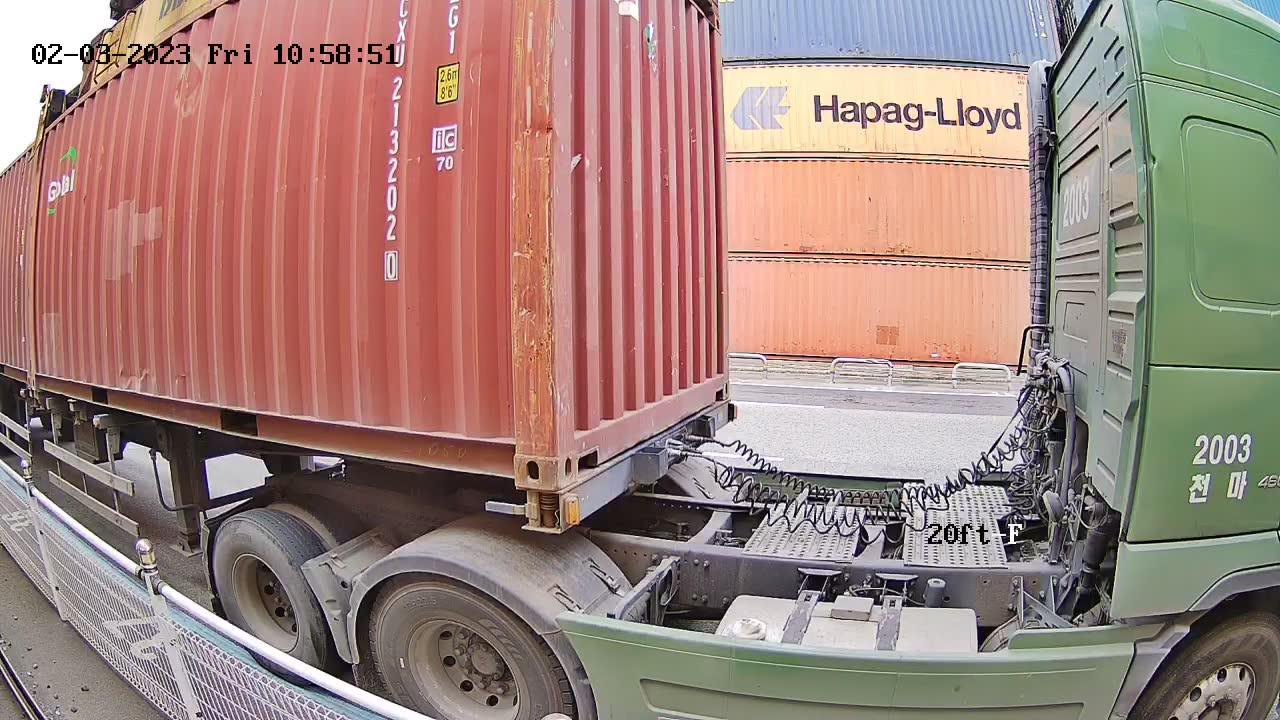Chassis: (517, 399, 733, 532)
Cone: (518, 488, 557, 527)
Hole_L: (555, 410, 595, 490)
Hole_R: (479, 412, 555, 488), (707, 360, 730, 406)
Tire: (370, 575, 570, 718), (214, 519, 327, 681)
